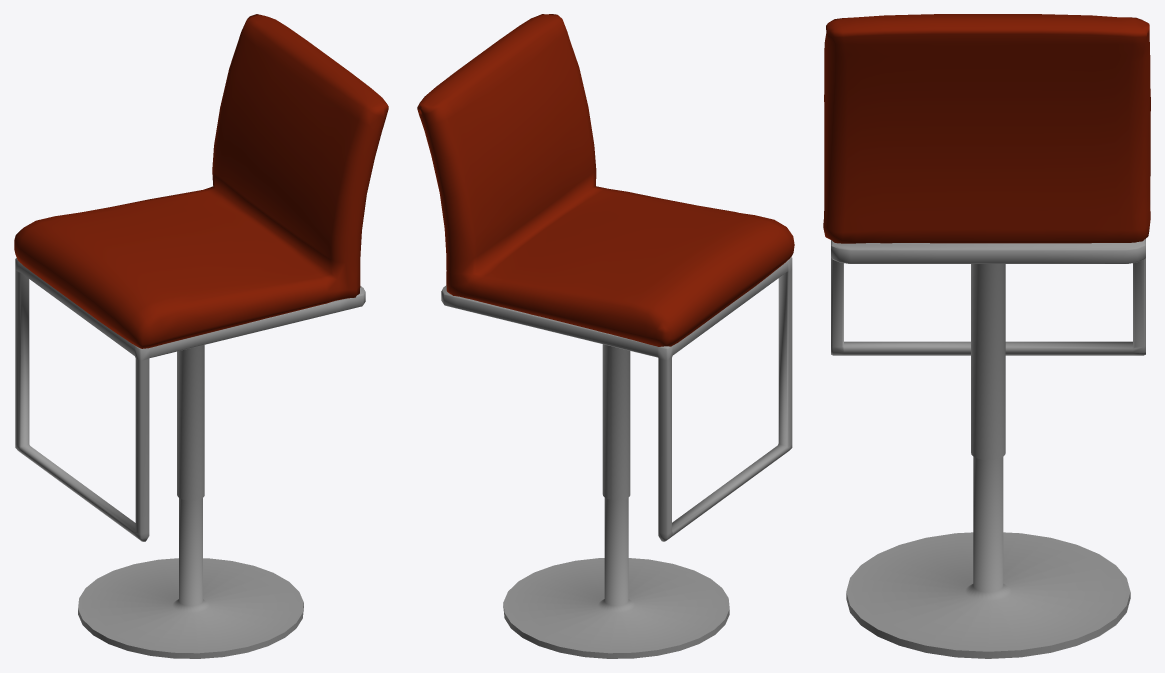
The model's file is Chair_Stool_Low.fbx.
The picture shows the model from 3 angles, left to right: view 1: azimuth 30°, elevation 25°; view 2: azimuth 150°, elevation 25°; view 3: azimuth 270°, elevation 25°; orthographic projection. The views are drawn at different scales.
Parts seen in each view (by area): view 1: Chair_Stool_Low; view 2: Chair_Stool_Low; view 3: Chair_Stool_Low.
Part boxes in pixels (<box>): Chair_Stool_Low: <box>14,14,388,658</box>; Chair_Stool_Low: <box>417,14,794,658</box>; Chair_Stool_Low: <box>823,14,1150,658</box>.
Bounding box in the file's own units: 53.55 × 104 × 46.9.
